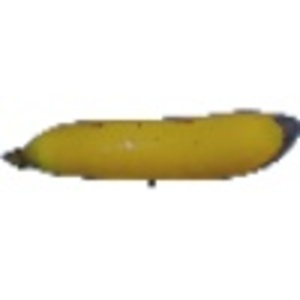banana: (3, 98, 298, 190)
